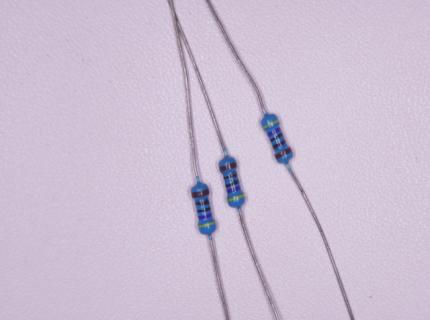Violet band: (268, 127, 281, 137), (228, 186, 240, 194), (199, 213, 211, 220)
Yellow band: (263, 119, 279, 129), (228, 194, 244, 202), (199, 221, 215, 228)
